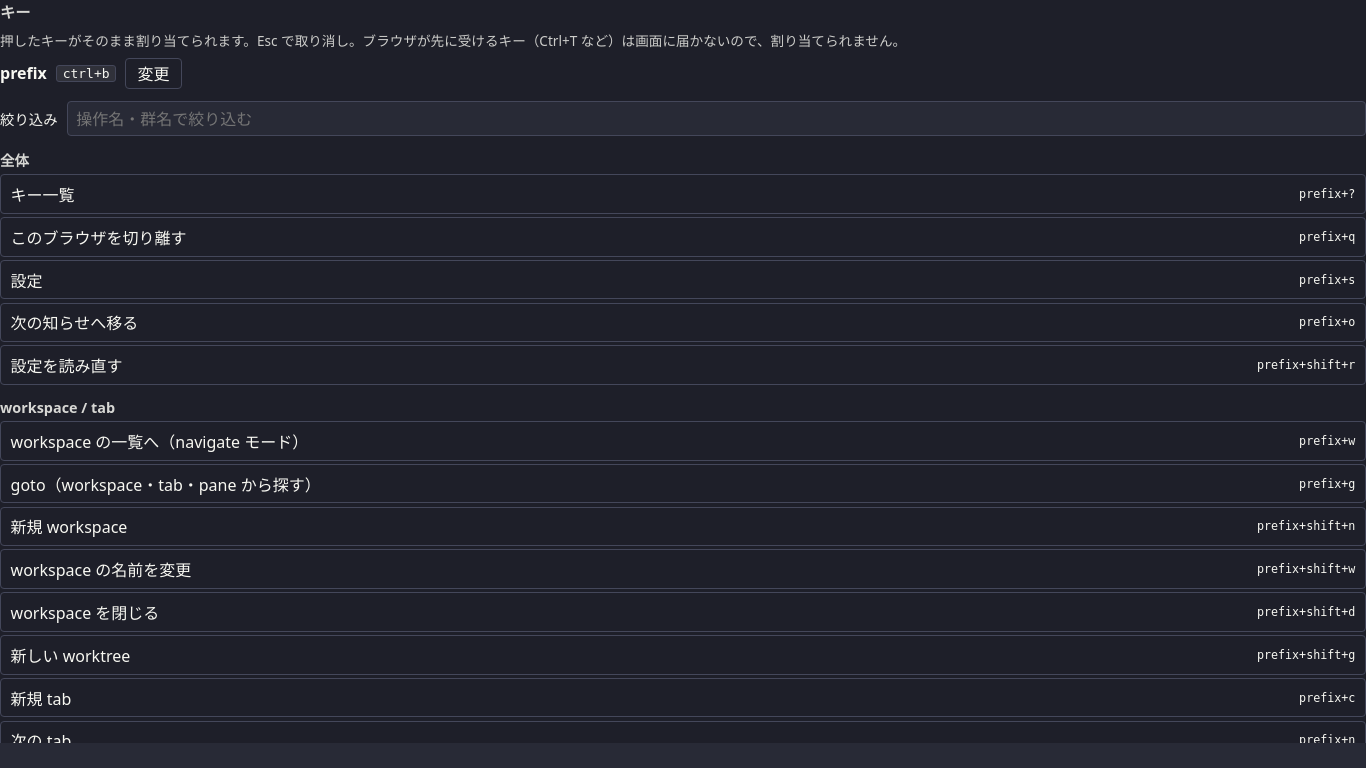
Test case: KeySettings — 絞り込み（AC1・AC2・AC3・AC-I1〜AC-I5） › 最初から表示され（開閉の概念を持たない）、操作名の一部で一致する操作だけが残る（AC1・AC-I1）
Type "拡大表示" into the field with id "keys-filter-input" at point(717, 119), box x1=67 y1=101 x2=1365 y2=136
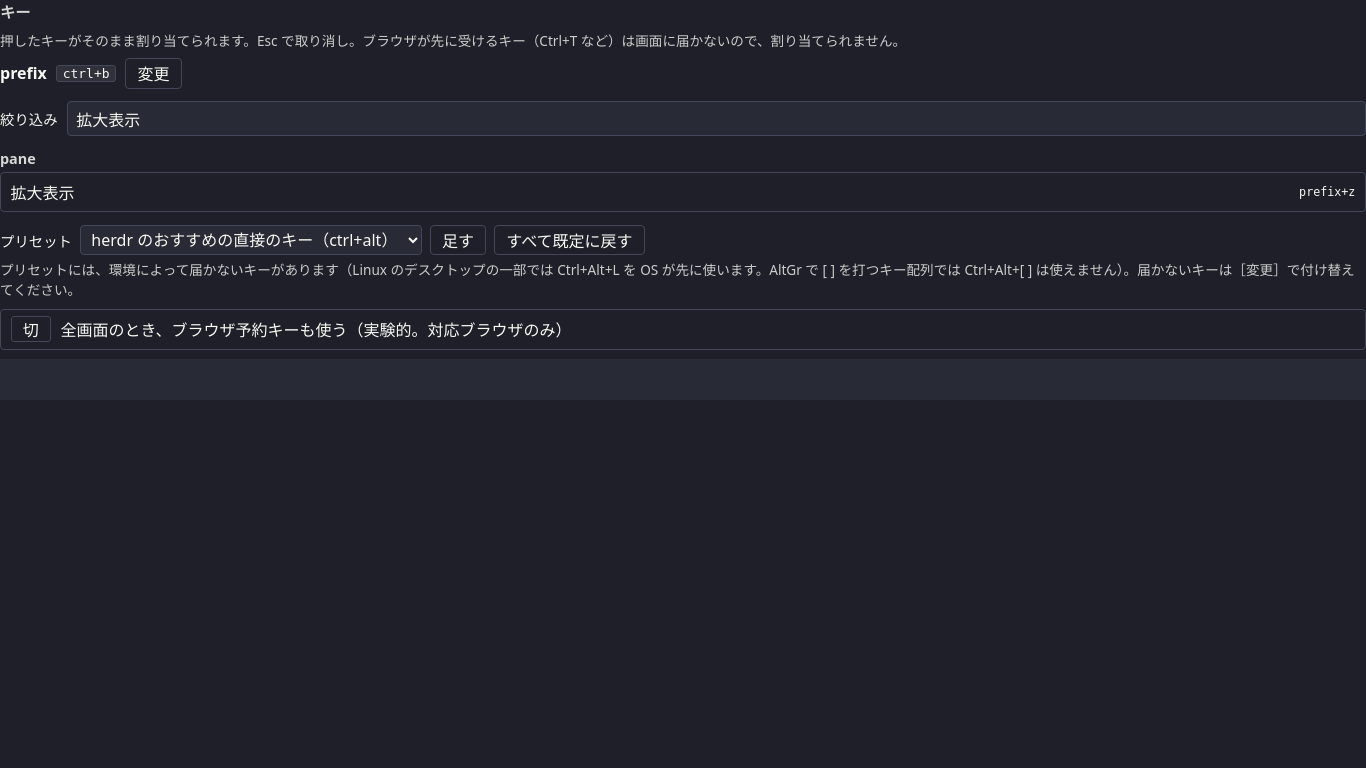
Now the number of elements with class "keys-details" is 1, box x1=0 y1=172 x2=1365 y2=212
